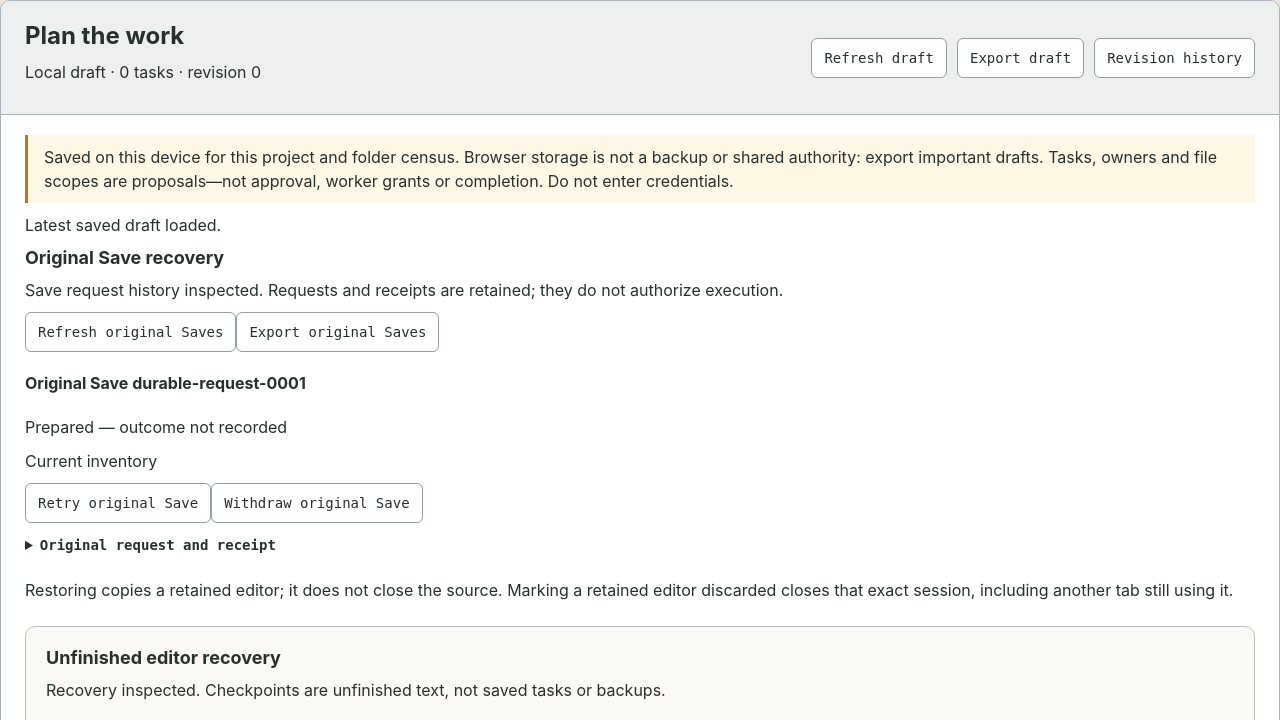
Test case: withdrawn original retains editor and cannot submit afterward
This screenshot has width=1280, height=720.
Click the button "Withdraw original Save": (317, 502) [211, 482, 423, 522]
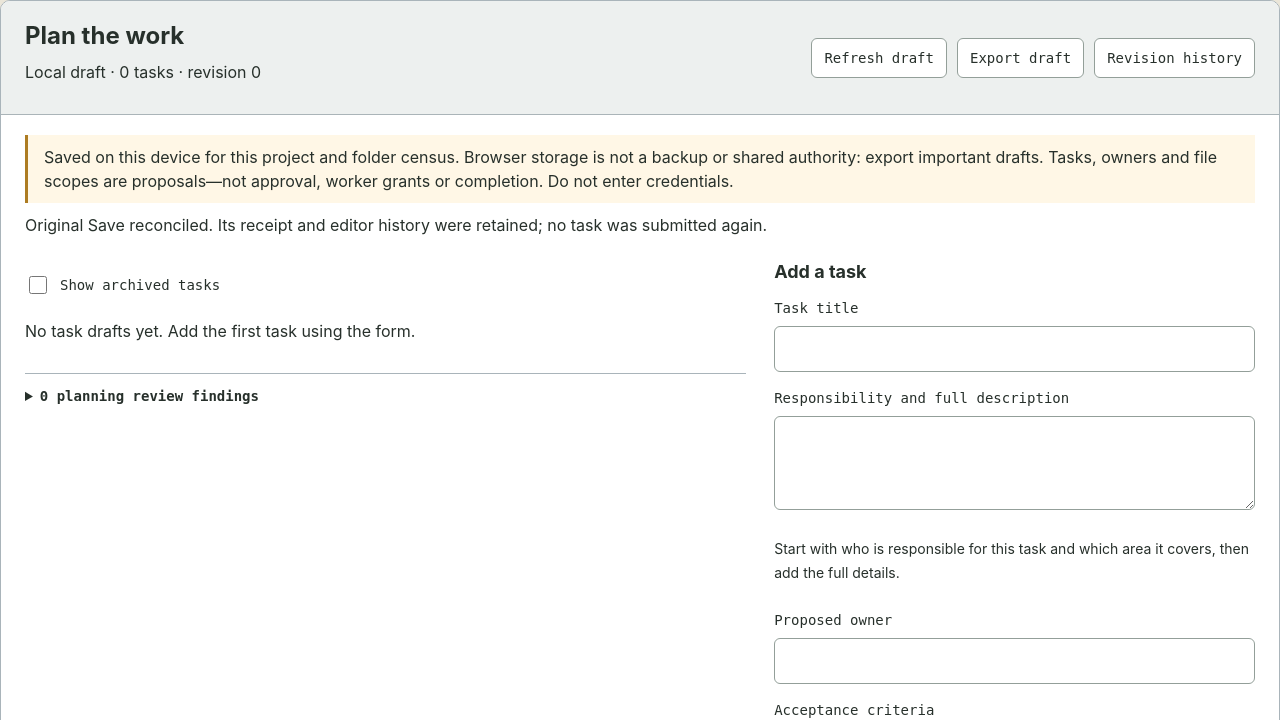
Result: the text "Original Save reconciled" is shown at [25, 215, 767, 235]
